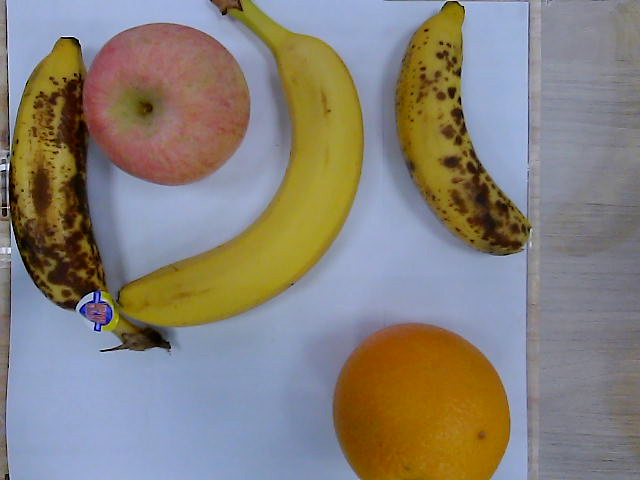fresh_apple: (84, 23, 249, 189)
fresh_banana: (119, 1, 368, 330)
fresh_orange: (333, 320, 511, 480)
rotten_banana: (9, 38, 172, 352), (395, 1, 534, 257)
